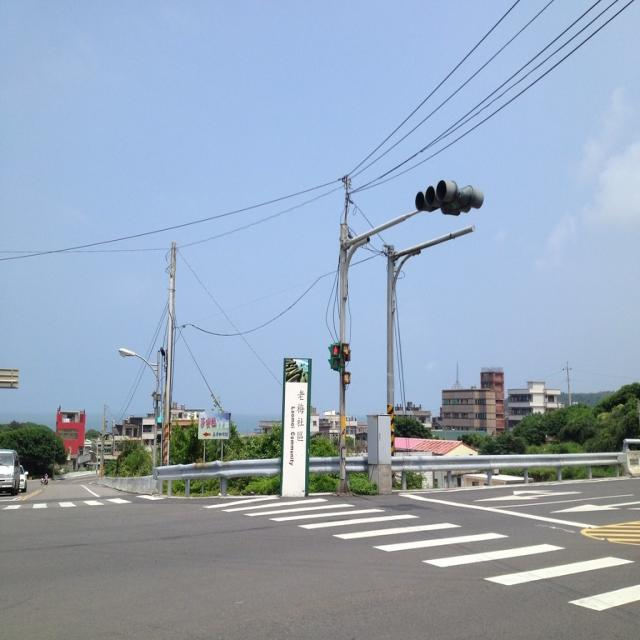red light: (330, 342, 341, 371)
